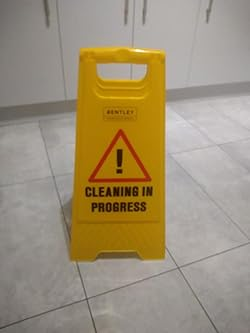wet caution sign: (59, 34, 178, 273)
